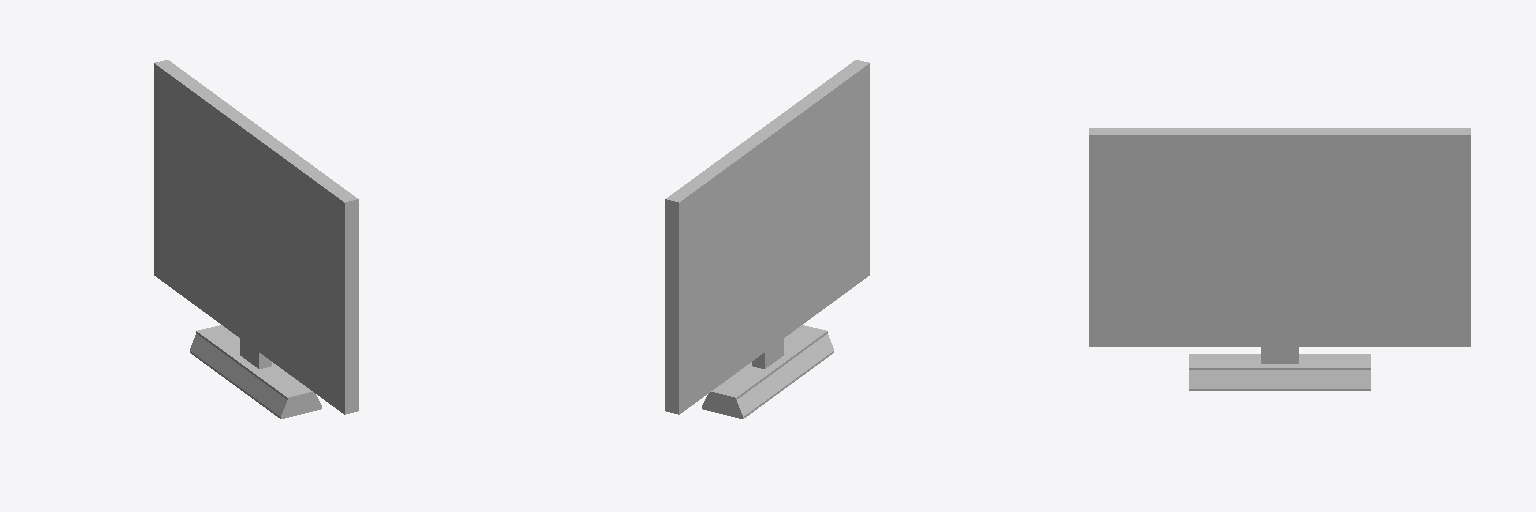
3 renders of one model, left to right at view 1: azimuth 30°, elevation 25°; view 2: azimuth 150°, elevation 25°; view 3: azimuth 270°, elevation 25°, orthographic.
Parts seen in each view (by area): view 1: tv:pCube4; view 2: tv:pCube4; view 3: tv:pCube4.
Part boxes in pixels (x1,y1,x2,y2): tv:pCube4: (154, 60, 358, 418); tv:pCube4: (665, 60, 869, 418); tv:pCube4: (1089, 128, 1470, 390).
Size of the model in its own units: 0.1664 by 0.9543 by 1.32.